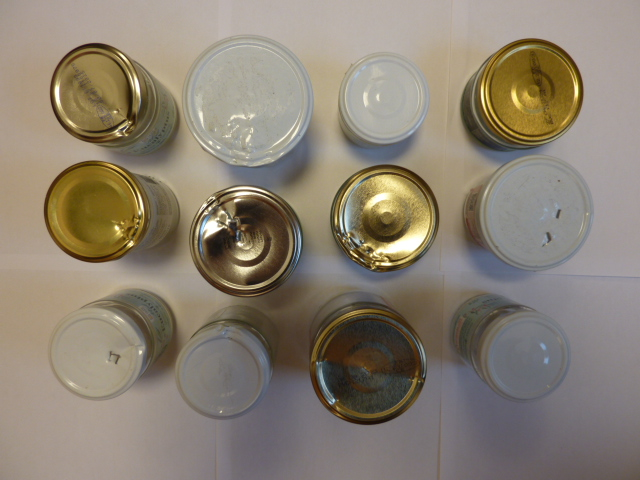damaged: (174, 326, 272, 421)
intact: (477, 310, 570, 403)
